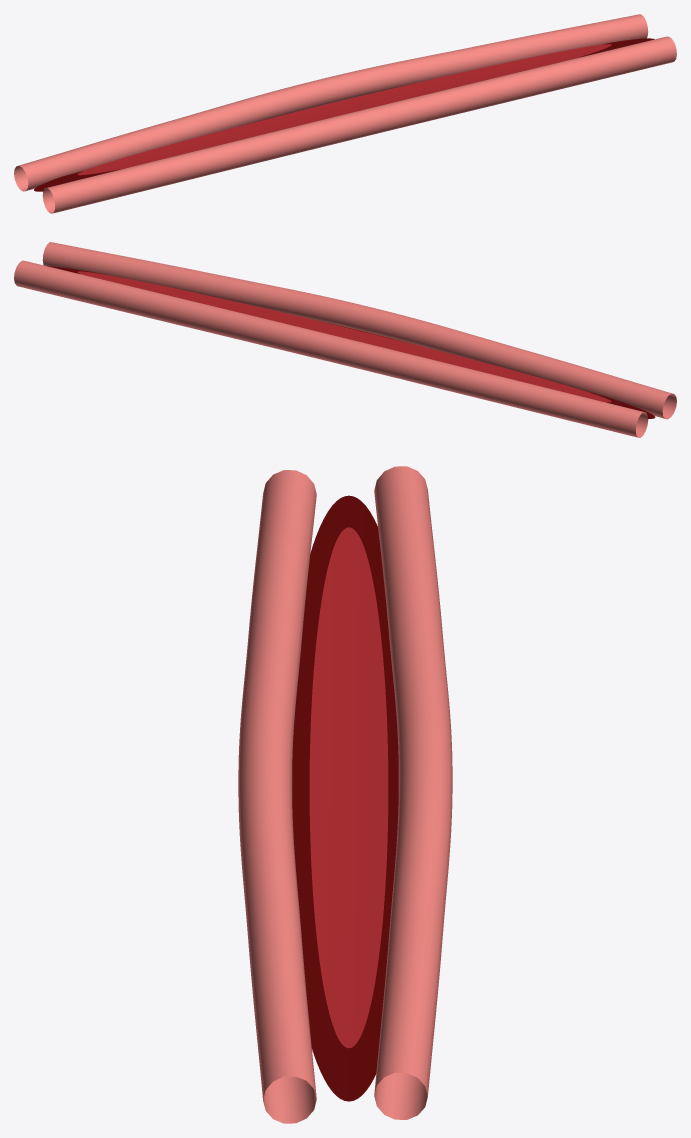
File: incizie.fbx
The picture shows the model from 3 angles, top to bottom: view 1: azimuth 30°, elevation 25°; view 2: azimuth 150°, elevation 25°; view 3: azimuth 270°, elevation 25°; orthographic projection. The views are drawn at different scales.
Visible parts, largest first — view 1: Margine inferioara incizie, Margine superioara incizie, Tesut vizibil in incizie, Deschidere incizie; view 2: Margine superioara incizie, Margine inferioara incizie, Tesut vizibil in incizie, Deschidere incizie; view 3: Margine superioara incizie, Margine inferioara incizie, Tesut vizibil in incizie, Deschidere incizie.
Boxes of the visible parts, box(x1,y1,x2,y2) form: Margine inferioara incizie: box(42, 36, 676, 213); Margine superioara incizie: box(14, 14, 648, 191); Tesut vizibil in incizie: box(77, 44, 611, 175); Deschidere incizie: box(34, 38, 654, 191); Margine superioara incizie: box(14, 260, 648, 437); Margine inferioara incizie: box(42, 242, 676, 419); Tesut vizibil in incizie: box(77, 271, 611, 402); Deschidere incizie: box(47, 266, 655, 418); Margine superioara incizie: box(374, 466, 452, 1119); Margine inferioara incizie: box(238, 470, 316, 1123); Tesut vizibil in incizie: box(309, 527, 388, 1048); Deschidere incizie: box(292, 495, 398, 1101).
Size of the model in its own units: 240 by 11.96 by 35.85.
